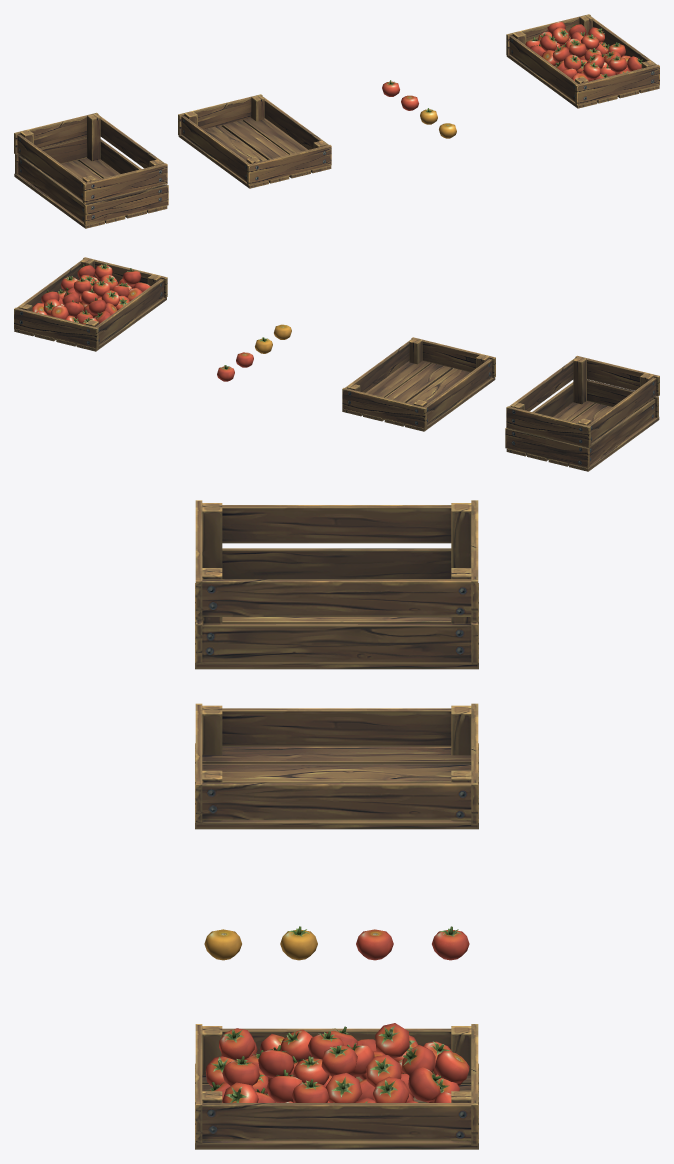
File: boxTomatoes.fbx
3 views of the same model, one above another, from view 1: azimuth 30°, elevation 25°; view 2: azimuth 150°, elevation 25°; view 3: azimuth 270°, elevation 25° (orthographic). The views are drawn at different scales.
Parts seen in each view (by area): view 1: box, box_2, box_tomatoes; view 2: box, box_2, box_tomatoes; view 3: box, box_2, box_tomatoes, tomato_1.025, tomato_2, tomato_1, tomato_1.029, tomato_2m, tomato_1m.
Boxes of the visible parts, left/top/right/bottom form: box: left=14, top=112, right=168, bottom=228; box_2: left=178, top=94, right=331, bottom=188; box_tomatoes: left=506, top=14, right=659, bottom=108; box: left=505, top=355, right=659, bottom=471; box_2: left=342, top=337, right=495, bottom=431; box_tomatoes: left=14, top=257, right=167, bottom=351; box: left=195, top=500, right=478, bottom=669; box_2: left=195, top=703, right=478, bottom=829; box_tomatoes: left=195, top=1024, right=478, bottom=1149; tomato_1.025: left=375, top=1023, right=409, bottom=1058; tomato_2: left=280, top=926, right=317, bottom=960; tomato_1: left=432, top=926, right=469, bottom=960; tomato_1.029: left=219, top=1028, right=255, bottom=1060; tomato_2m: left=204, top=929, right=241, bottom=960; tomato_1m: left=356, top=929, right=393, bottom=960.
Size of the model in its own units: 351 by 28.47 by 75.
Materials: 3 (3 with a texture image).
